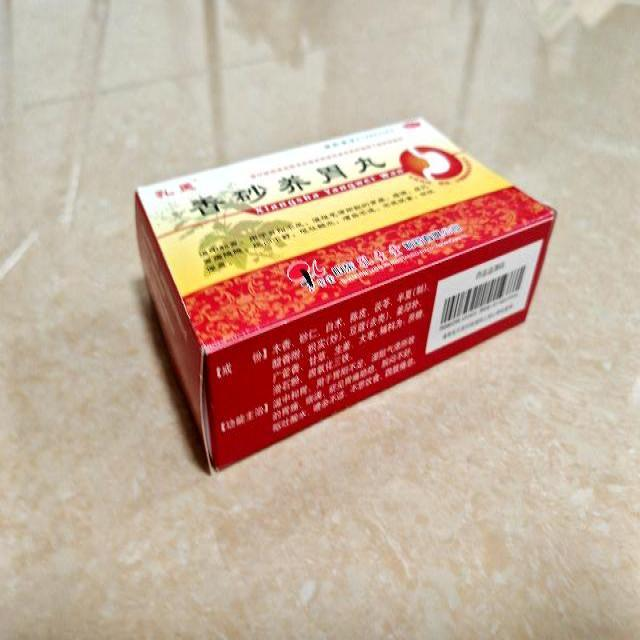box: (136, 116, 556, 471)
